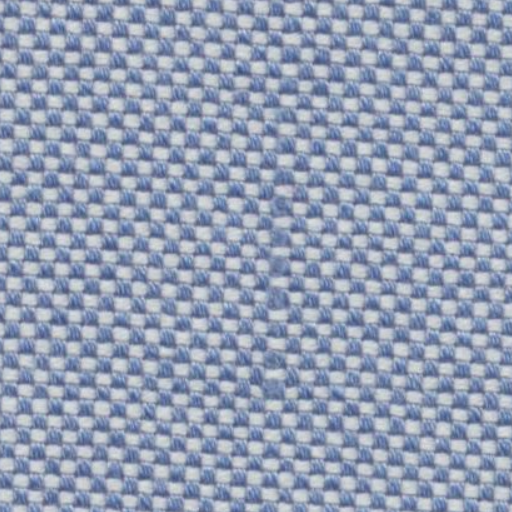TuoSha: (251, 18, 323, 463)
